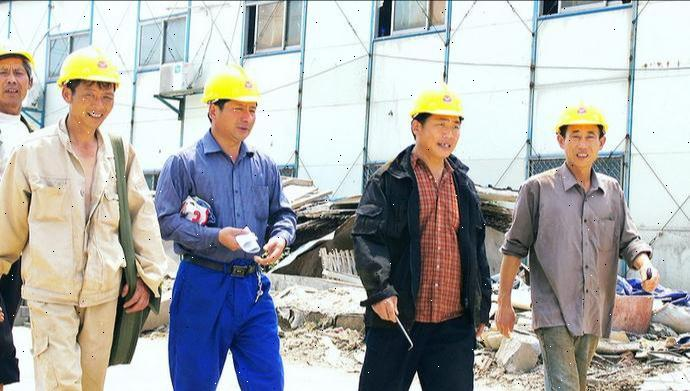helmet: (59, 44, 123, 92), (204, 60, 260, 102), (410, 88, 469, 119), (554, 101, 608, 130)
no_wear: (27, 135, 130, 298), (379, 164, 478, 318), (179, 148, 272, 278), (534, 176, 613, 326)
